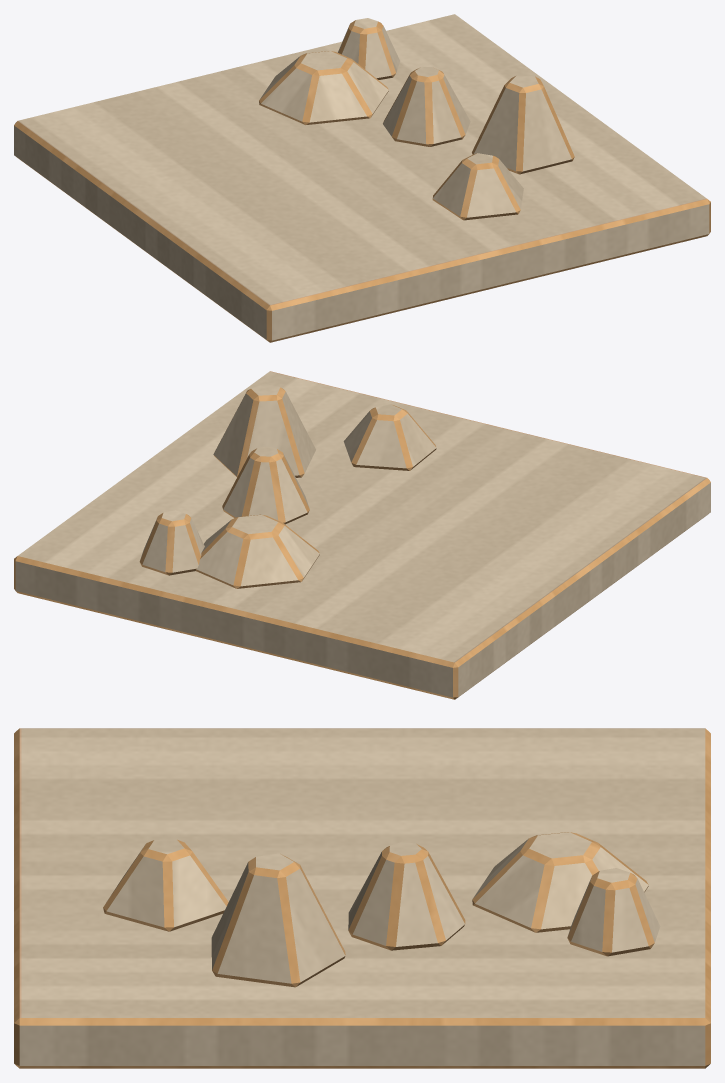
Rendered from sm_terrain_tile_rocky.glb.
3 renders of one model, top to bottom at view 1: azimuth 30°, elevation 25°; view 2: azimuth 150°, elevation 25°; view 3: azimuth 270°, elevation 25°, orthographic. The views are drawn at different scales.
Visible parts, largest first — view 1: sm_terrain_tile_rocky; view 2: sm_terrain_tile_rocky; view 3: sm_terrain_tile_rocky.
Part boxes in pixels (x1,y1,x2,y2): sm_terrain_tile_rocky: (14, 14, 710, 342); sm_terrain_tile_rocky: (14, 371, 710, 699); sm_terrain_tile_rocky: (14, 728, 710, 1068).
Size of the model in its own units: 1 by 0.2333 by 1.
1 material, 1 textured.
